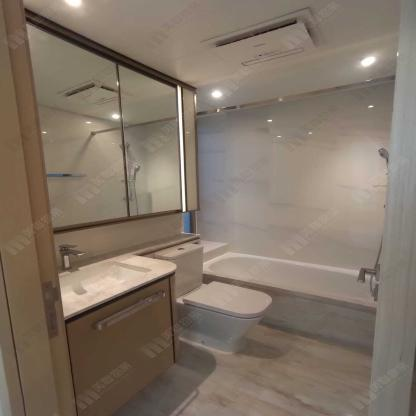Bathtub: (203, 252, 379, 358)
Thermo Ventilator: (200, 7, 330, 78)
Toilet: (154, 242, 273, 353)
Toilet Sink: (56, 251, 177, 321)
